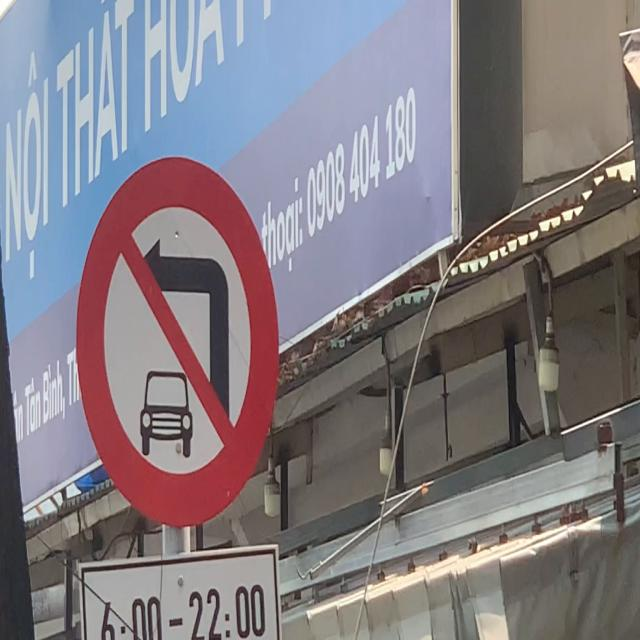Cam re trai: (75, 154, 280, 528)
